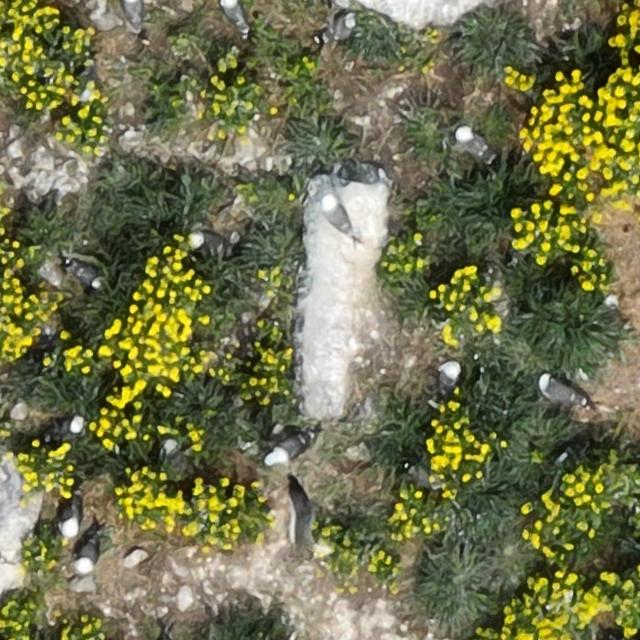umineko: (321, 190, 360, 238), (46, 417, 90, 447), (540, 378, 577, 402), (458, 128, 487, 158), (268, 436, 305, 459), (70, 262, 102, 288), (60, 499, 80, 537), (191, 232, 227, 252), (78, 537, 98, 571), (222, 1, 244, 31), (438, 360, 458, 392), (122, 1, 142, 25)
